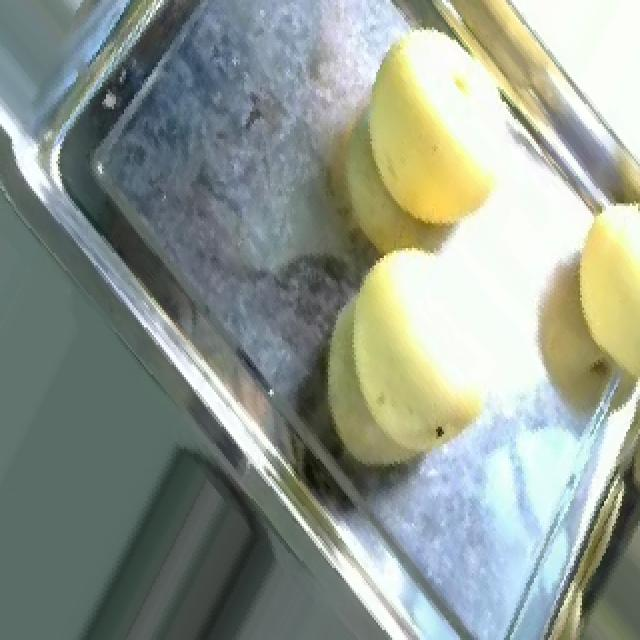Fruit: (282, 228, 510, 501), (336, 2, 520, 250), (506, 178, 640, 442)
